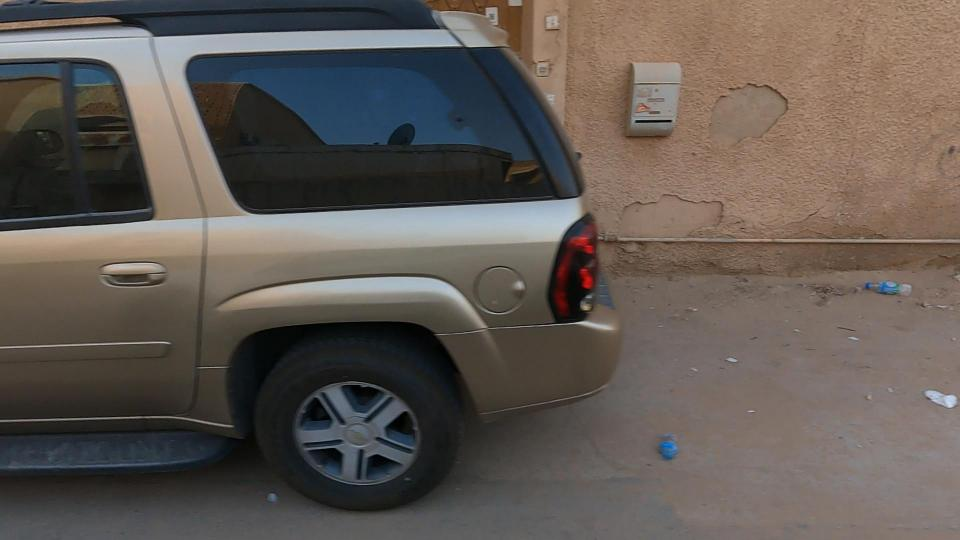GARBAGE: (805, 237, 960, 330), (630, 403, 710, 483), (879, 368, 960, 421)
UNKEPT_FACADE: (527, 124, 871, 331), (664, 15, 840, 235)
